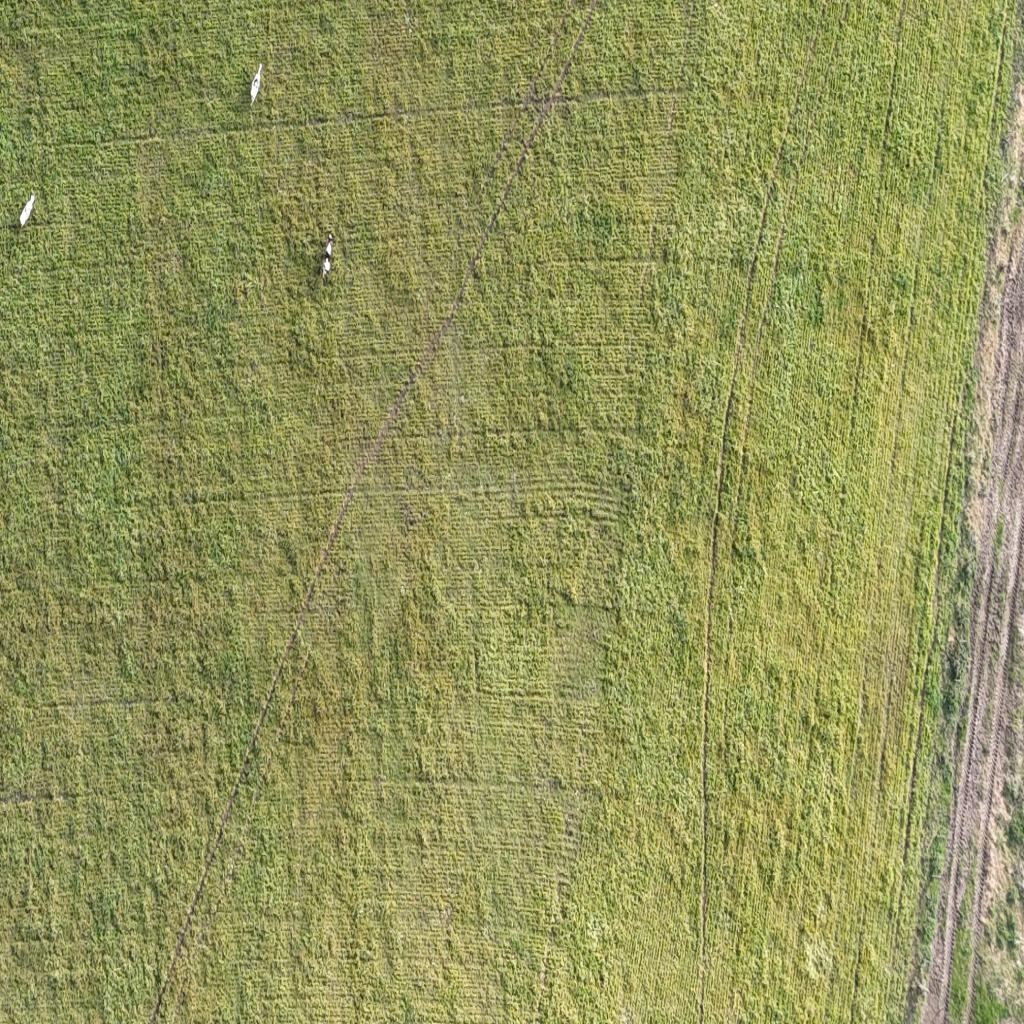cow: (250, 61, 269, 121), (20, 191, 36, 228), (322, 232, 334, 281)
